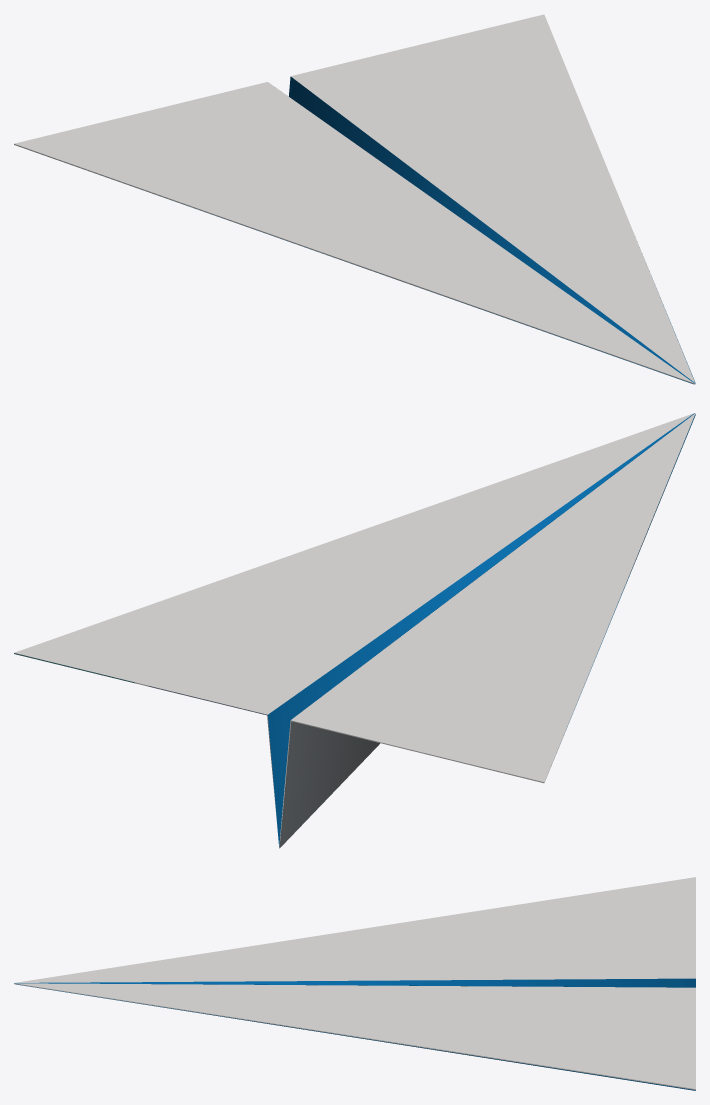
File: avioncito.obj
3 views of the same model, one above another, from view 1: azimuth 30°, elevation 25°; view 2: azimuth 150°, elevation 25°; view 3: azimuth 270°, elevation 25° (orthographic). The views are drawn at different scales.
Parts seen in each view (by area): view 1: Regular_Plane_Plane; view 2: Regular_Plane_Plane; view 3: Regular_Plane_Plane.
Part boxes in pixels (<box>): Regular_Plane_Plane: <box>14,14,695,384</box>; Regular_Plane_Plane: <box>14,413,695,848</box>; Regular_Plane_Plane: <box>14,877,695,1090</box>.
Bounding box in the file's own units: 80.72 × 19.13 × 110.
Materials: 1 (1 with a texture image).
